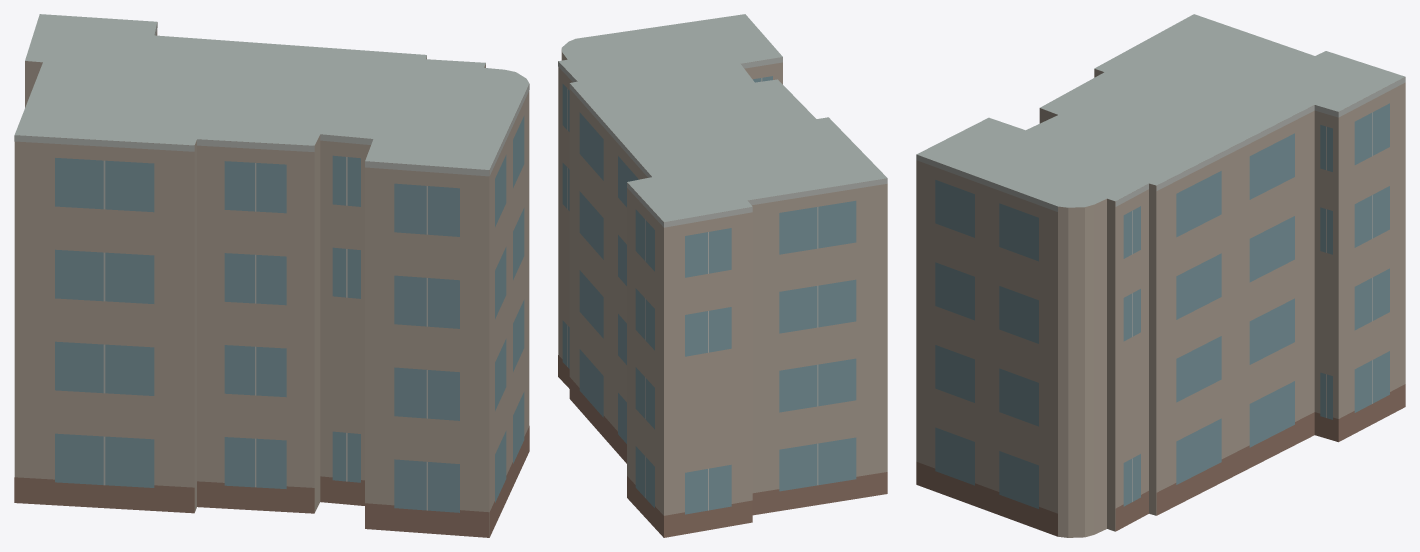
Rendered from survey-upis-32658479.glb.
3 views of the same model, side by side, from view 1: azimuth 30°, elevation 25°; view 2: azimuth 150°, elevation 25°; view 3: azimuth 270°, elevation 25° (orthographic). The views are drawn at different scales.
Visible parts, largest first — view 1: survey-upis-32658479.tmp; view 2: survey-upis-32658479.tmp; view 3: survey-upis-32658479.tmp.
Part boxes in pixels (<box>): survey-upis-32658479.tmp: <box>14,14,529,537</box>; survey-upis-32658479.tmp: <box>558,14,887,537</box>; survey-upis-32658479.tmp: <box>916,14,1405,537</box>.
Size of the model in its own units: 17.71 by 14.07 by 18.9.
